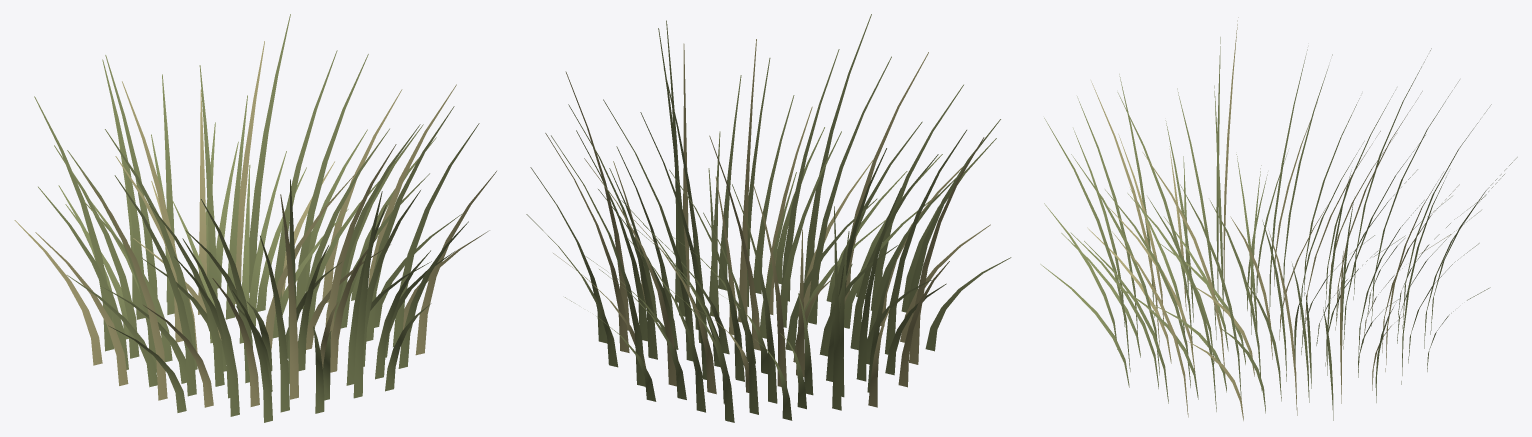
The picture shows the model from 3 angles, left to right: view 1: azimuth 30°, elevation 25°; view 2: azimuth 150°, elevation 25°; view 3: azimuth 270°, elevation 25°; orthographic projection. The views are drawn at different scales.
Parts seen in each view (by area): view 1: Mesh_grass-green, Mesh_dry-tips; view 2: Mesh_grass-green, Mesh_dry-tips; view 3: Mesh_grass-green, Mesh_dry-tips.
Part boxes in pixels (x1,y1,x2,y2): Mesh_grass-green: (34,14,479,422); Mesh_dry-tips: (14,41,496,407); Mesh_grass-green: (526,14,1011,422); Mesh_dry-tips: (545,39,990,407); Mesh_grass-green: (1040,37,1517,420); Mesh_dry-tips: (1087,17,1459,420).
Size of the model in its own units: 1.59 by 0.9198 by 1.61.
